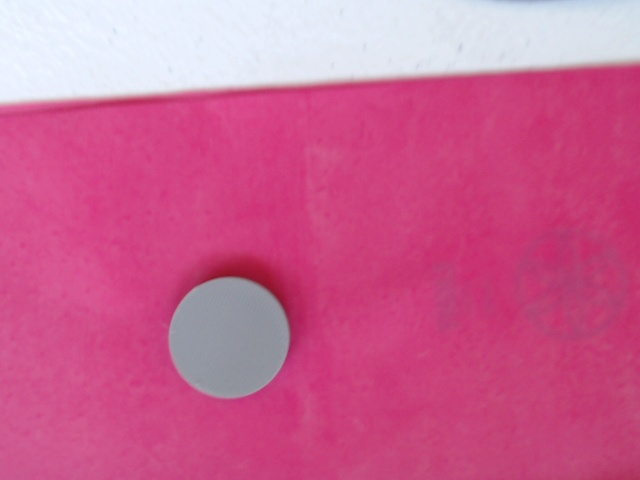NonDefective: (163, 274, 301, 403)
